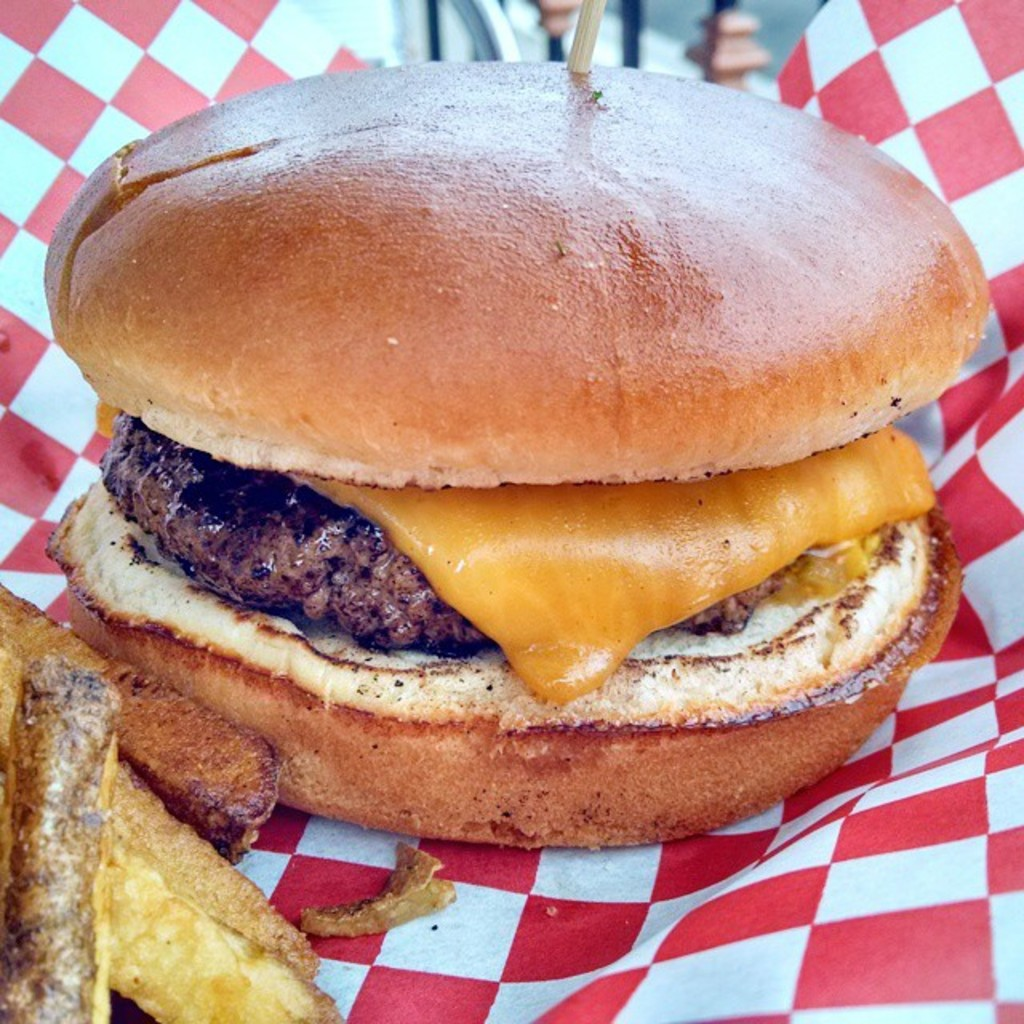Hamburger: (38, 56, 988, 852)
